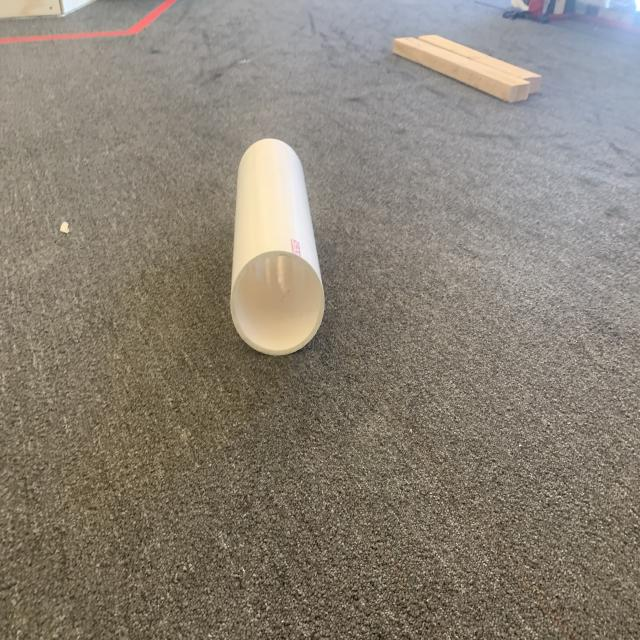Coral: (229, 136, 326, 357)
